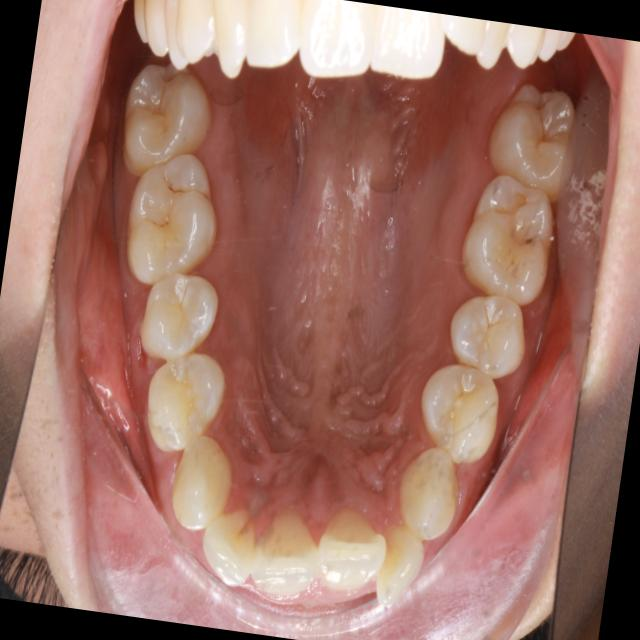tooth: (109, 141, 236, 301), (450, 159, 574, 316), (109, 52, 232, 195), (122, 340, 244, 479), (399, 352, 523, 481), (481, 72, 595, 212), (125, 254, 237, 383), (154, 423, 261, 558), (303, 493, 403, 618), (438, 279, 548, 391), (241, 498, 334, 617), (188, 488, 275, 607), (387, 434, 475, 551), (360, 508, 445, 629)
